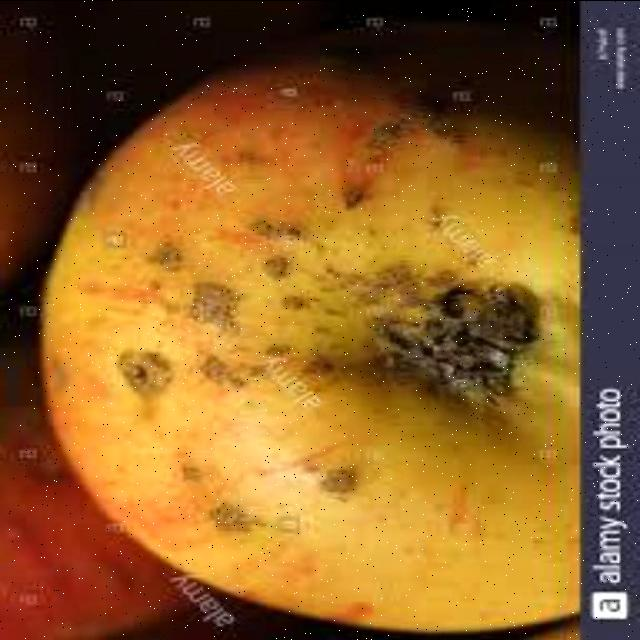SCAB: (5, 53, 558, 626)
